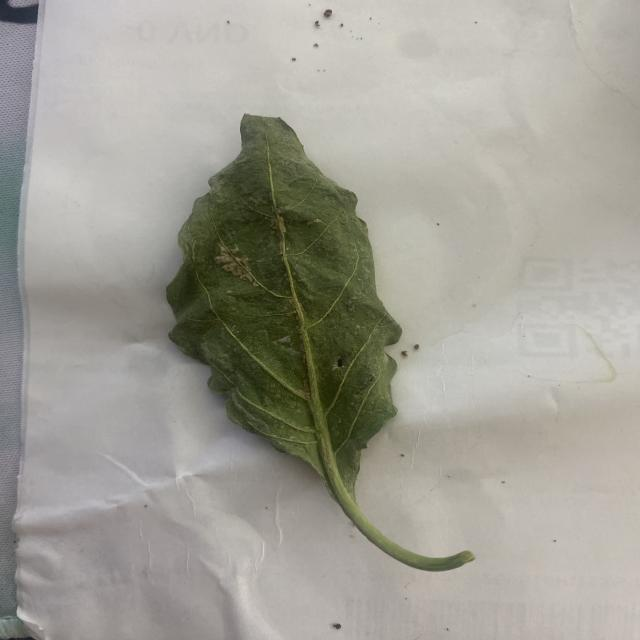Leaf: (165, 110, 404, 474)
